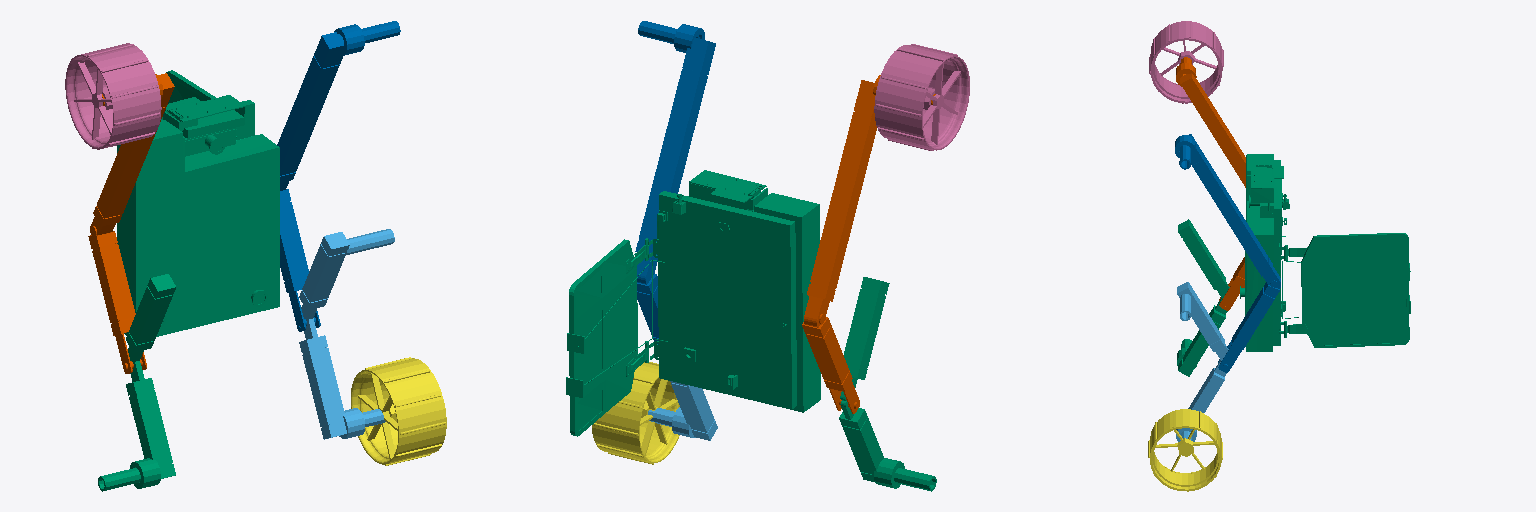
--- Render facts (derived) ---
The picture shows the robot from 3 angles, left to right: view 1: azimuth 30°, elevation 25°; view 2: azimuth 150°, elevation 25°; view 3: azimuth 270°, elevation 25°; orthographic projection.
Robot: pragyaan_rover — 14 links, 13 joints (10 continuous, 3 fixed); root link Pragyaan; default pose: all joints at 0.
Links seen in each view (by area): view 1: Pragyaan, Wheel_front_right, Wheel_back_left, rocker_left, bogie_left, rocker_right, bogie_right; view 2: Pragyaan, rocker_right, Wheel_front_right, rocker_left, bogie_right, Wheel_back_left, bogie_left; view 3: Pragyaan, rocker_left, Wheel_back_left, Wheel_front_right, rocker_right, bogie_right, bogie_left.
Boxes of the visible links, x1,y1,x2,y2 form: Pragyaan: [117, 70, 279, 336]; Wheel_front_right: [65, 43, 161, 149]; Wheel_back_left: [351, 357, 446, 465]; rocker_left: [277, 21, 400, 331]; bogie_left: [299, 229, 394, 439]; rocker_right: [88, 73, 174, 373]; bogie_right: [98, 274, 175, 491]; Pragyaan: [566, 170, 820, 436]; rocker_right: [802, 75, 935, 413]; Wheel_front_right: [874, 44, 969, 150]; rocker_left: [635, 21, 715, 344]; bogie_right: [839, 277, 936, 491]; Wheel_back_left: [592, 362, 679, 464]; bogie_left: [648, 381, 717, 440]; Pragyaan: [1240, 154, 1410, 351]; rocker_left: [1175, 134, 1280, 372]; Wheel_back_left: [1148, 409, 1222, 491]; Wheel_front_right: [1149, 21, 1223, 103]; rocker_right: [1176, 57, 1245, 310]; bogie_right: [1177, 219, 1229, 376]; bogie_left: [1176, 282, 1228, 441].
Size in the robot's own frame: 1.23 by 1.14 by 1.68 metres.
32 mesh visuals loaded from 41 distinct referenced files (32 OBJ); not drawn: 9 (reference not matched to a file when rendering).

URDF robot description (pragyaan_rover):
<?xml version="1.0" encoding="UTF-8"?>
<robot name="pragyaan_rover">
  <joint name="bogie_l" type="continuous">
    <origin xyz="0.0754756 0.3607256 -0.2064196" rpy="-0.0000002 0. 0.0000004"/>
    <parent link="rocker_left"/>
    <child link="bogie_left"/>
    <axis xyz="1. 0. 0."/>
  </joint>
  <joint name="bogie_r" type="continuous">
    <origin xyz="-0.0661764 0.3610772 -0.1975457" rpy="-0.0000002 0. 0.0000004"/>
    <parent link="rocker_right"/>
    <child link="bogie_right"/>
    <axis xyz="1. 0. 0."/>
  </joint>
  <joint name="joint_Pragyaan-Body_NavCam_left_NavCam_left" type="fixed">
    <origin xyz="0.1591243 0.1491396 0.36693 " rpy="2.9575973 -0.0082019 -3.1400664"/>
    <parent link="Pragyaan"/>
    <child link="Body_NavCam_left_NavCam_left"/>
  </joint>
  <joint name="joint_Pragyaan-Body_NavCam_right_NavCam_right" type="fixed">
    <origin xyz="-0.159981 0.1491396 0.36693 " rpy="2.9575973 -0.0082019 -3.1400664"/>
    <parent link="Pragyaan"/>
    <child link="Body_NavCam_right_NavCam_right"/>
  </joint>
  <joint name="joint_Pragyaan-depth_cam" type="fixed">
    <origin xyz="-0.0041552 0.1451544 0.3489496" rpy="-3.1392138 0.0998254 3.14032 "/>
    <parent link="Pragyaan"/>
    <child link="depth_cam"/>
  </joint>
  <joint name="rocker_l" type="continuous">
    <origin xyz="0.2612816 0.1085687 0.0289955" rpy="-1.5707961 -0.0000004 0. "/>
    <parent link="Pragyaan"/>
    <child link="rocker_left"/>
    <axis xyz="1. 0. 0."/>
  </joint>
  <joint name="rocker_r" type="continuous">
    <origin xyz="-0.2565102 0.1044748 0.0308113" rpy="-1.5707963 -0. 0. "/>
    <parent link="Pragyaan"/>
    <child link="rocker_right"/>
    <axis xyz="1. 0. 0."/>
  </joint>
  <joint name="wheel_bl" type="continuous">
    <origin xyz="0.2446567 0.3255871 -0.1849768" rpy="-0.9082444 0. 0. "/>
    <parent link="bogie_left"/>
    <child link="Wheel_back_left"/>
    <axis xyz="1. 0. 0."/>
  </joint>
  <joint name="wheel_br" type="continuous">
    <origin xyz="-0.2516727 0.3308002 -0.1864157" rpy="0.1365122 0. 0. "/>
    <parent link="bogie_right"/>
    <child link="Wheel_back_right"/>
    <axis xyz="1. 0. 0."/>
  </joint>
  <joint name="wheel_fl" type="continuous">
    <origin xyz="0.3204064 -0.6752018 -0.3913617" rpy="-1.3830266 0. 0.0000004"/>
    <parent link="rocker_left"/>
    <child link="Wheel_front_left"/>
    <axis xyz="1. 0. 0."/>
  </joint>
  <joint name="wheel_fr" type="continuous">
    <origin xyz="-0.3177407 -0.6728966 -0.3839952" rpy="1.7787697 0. 0.0000004"/>
    <parent link="rocker_right"/>
    <child link="Wheel_front_right"/>
    <axis xyz="1. 0. 0."/>
  </joint>
  <joint name="wheel_ml" type="continuous">
    <origin xyz="0.2452282 -0.3030834 -0.1850814" rpy="-1.0145161 0. 0. "/>
    <parent link="bogie_left"/>
    <child link="Wheel_middle_left"/>
    <axis xyz="1. 0. 0."/>
  </joint>
  <joint name="wheel_mr" type="continuous">
    <origin xyz="-0.2524492 -0.2997136 -0.1855052" rpy="2.1274116 0. 0. "/>
    <parent link="bogie_right"/>
    <child link="Wheel_middle_right"/>
    <axis xyz="1. 0. 0."/>
  </joint>
  <link name="Body_NavCam_left_NavCam_left"/>
  <link name="Body_NavCam_right_NavCam_right"/>
  <link name="Pragyaan">
    <visual>
      <origin xyz="0.0011804 0.1122519 0.0243774" rpy="-1.5707965 0.1820427 -0. "/>
      <geometry>
        <mesh filename="package://rover_description/meshes/Body_body_top_body_top.obj" scale="0.5 0.5 0.5"/>
      </geometry>
    </visual>
    <visual>
      <origin xyz="0.0016626 0.17169 0.0209961" rpy="-1.5707965 0.1820427 -0. "/>
      <geometry>
        <mesh filename="package://rover_description/meshes/Body_body_main_body_main.obj" scale="0.5 0.5 0.5"/>
      </geometry>
    </visual>
    <visual>
      <origin xyz="0.0016626 0.17169 0.0209961" rpy="-1.5707965 0.1820427 -0. "/>
      <geometry>
        <mesh filename="package://rover_description/meshes/body_attachments.obj" scale="0.5 0.5 0.5"/>
      </geometry>
    </visual>
    <visual>
      <origin xyz="0.0016626 0.17169 0.0209961" rpy="-1.5707965 0.1820427 -0. "/>
      <geometry>
        <mesh filename="package://rover_description/meshes/red_sensor_01.obj" scale="0.5 0.5 0.5"/>
      </geometry>
    </visual>
    <visual>
      <origin xyz="0.1603076 0.1486673 0.3447998" rpy="-1.4469512 0. 0. "/>
      <geometry>
        <mesh filename="package://rover_description/meshes/Body_NavCam_left_Cube_078_silver_metal_0_Cube_078_silver_metal_0.obj" scale="0.6903735 0.6903736 0.6903736"/>
      </geometry>
    </visual>
    <visual>
      <origin xyz="0.1603076 0.1486673 0.3447998" rpy="-1.4469512 0. 0. "/>
      <geometry>
        <mesh filename="package://rover_description/meshes/Body_NavCam_left_Cube_078_black_0_Cube_078_black_0.obj" scale="0.6903735 0.6903736 0.6903736"/>
      </geometry>
    </visual>
    <visual>
      <origin xyz="-0.1587976 0.1486673 0.3447998" rpy="-1.4469512 0. 0. "/>
      <geometry>
        <mesh filename="package://rover_description/meshes/Body_NavCam_right_Cube_079_silver_metal_0_Cube_079_silver_metal_0.obj" scale="0.6903735 0.6903736 0.6903736"/>
      </geometry>
    </visual>
    <visual>
      <origin xyz="-0.1587976 0.1486673 0.3447998" rpy="-1.4469512 0. 0. "/>
      <geometry>
        <mesh filename="package://rover_description/meshes/Body_NavCam_right_Cube_079_black_0_Cube_079_black_0.obj" scale="0.6903735 0.6903736 0.6903736"/>
      </geometry>
    </visual>
    <visual>
      <origin xyz="0.13099 0.0772696 0.4068896" rpy="-1.5773519 0.1690651 -0.0063767"/>
      <geometry>
        <mesh filename="package://rover_description/meshes/APXS_001_wheels_001_black_0_wheels_001_black_0.obj" scale="0.4139922 0.4139885 0.451397 "/>
      </geometry>
    </visual>
    <visual>
      <origin xyz="0.13099 0.0772696 0.4068896" rpy="-1.5773519 0.1690651 -0.0063767"/>
      <geometry>
        <mesh filename="package://rover_description/meshes/APXS_001_wheels_001_glass_0_wheels_001_glass_0.obj" scale="0.4139922 0.4139885 0.451397 "/>
      </geometry>
    </visual>
    <visual>
      <origin xyz="0.13099 0.0772696 0.4068896" rpy="-1.5773519 0.1690651 -0.0063767"/>
      <geometry>
        <mesh filename="package://rover_description/meshes/APXS_001_wheels_001_red_sensor_0_wheels_001_red_sensor_0.obj" scale="0.4139922 0.4139885 0.451397 "/>
      </geometry>
    </visual>
    <visual>
      <origin xyz="0.0204041 0.0768395 0.3845825" rpy="-1.5707965 0.1820427 -0. "/>
      <geometry>
        <mesh filename="package://rover_description/meshes/APXS_002_wheels_002_black_0_wheels_002_black_0.obj" scale="0.3855481 0.3855481 0.4514027"/>
      </geometry>
    </visual>
    <visual>
      <origin xyz="0.0486792 0.0740127 0.2939331" rpy="-1.5707965 0. 0. "/>
      <geometry>
        <mesh filename="package://rover_description/meshes/APXS_003_Cube_076_black_0_Cube_076_black_0.obj" scale="0.3855482 0.3855482 0.4514027"/>
      </geometry>
    </visual>
    <visual>
      <origin xyz="0.1470642 0.0776972 0.3177978" rpy="-1.5707965 0. 0. "/>
      <geometry>
        <mesh filename="package://rover_description/meshes/APXS_004_Cylinder_black_0_Cylinder_black_0.obj" scale="0.5386098 0.5386098 0.6306084"/>
      </geometry>
    </visual>
    <visual>
      <origin xyz="-0.224541 0.1350447 -0.0022461" rpy="-1.5707965 0. 0. "/>
      <geometry>
        <mesh filename="package://rover_description/meshes/attachment_041_Cylinder_041_silver_metal_0_Cylinder_041_silver_metal_0.obj" scale="0.002557 0.002557 0.002557"/>
      </geometry>
    </visual>
    <visual>
      <origin xyz="-0.172439 0.1212981 -0.1923462" rpy="-1.5707965 0. 0. "/>
      <geometry>
        <mesh filename="package://rover_description/meshes/attachment_007_Plane_007_silver_metal_0_Plane_007_silver_metal_0.obj" scale="0.0203416 0.0147812 0.1646361"/>
      </geometry>
    </visual>
    <visual>
      <origin xyz="0.1303589 0.1310241 -0.1923462" rpy="-1.5707965 0. 0. "/>
      <geometry>
        <mesh filename="package://rover_description/meshes/attachment_006_Plane_006_silver_metal_0_Plane_006_silver_metal_0.obj" scale="0.0203416 0.0147812 0.1646361"/>
      </geometry>
    </visual>
    <visual>
      <origin xyz="-0.0270874 0.141632 -0.2469788" rpy="1.570798 0.0000016 1.5707964"/>
      <geometry>
        <mesh filename="package://rover_description/meshes/attachment_080_Cube_080_silver_metal_0_Cube_080_silver_metal_0.obj" scale="0.0156034 0.0206397 0.0029843"/>
      </geometry>
    </visual>
    <visual>
      <origin xyz="0.0082898 0.1358565 0.2869263" rpy="-1.5707965 0. 0. "/>
      <geometry>
        <mesh filename="package://rover_description/meshes/attachment_005_Plane_005_silver_metal_0_Plane_005_silver_metal_0.obj" scale="0.0203416 0.0147812 0.0339739"/>
      </geometry>
    </visual>
    <visual>
      <origin xyz="0.232854 0.1460427 0.2807739" rpy="-1.5707965 0. 0. "/>
      <geometry>
        <mesh filename="package://rover_description/meshes/attachment_075_Cube_075_silver_metal_0_Cube_075_silver_metal_0.obj" scale="0.0156034 0.0156034 0.0029843"/>
      </geometry>
    </visual>
    <visual>
      <origin xyz="-0.2309241 0.1460427 0.2807739" rpy="3.1415927 0. 3.1415927"/>
      <geometry>
        <mesh filename="package://rover_description/meshes/attachment_077_Cube_077_silver_metal_0_Cube_077_silver_metal_0.obj" scale="0.0156034 0.0156034 0.0029843"/>
      </geometry>
    </visual>
    <visual>
      <origin xyz="0.2880847 0.1503942 -0.021416 " rpy="-1.5651225 0.0051784 0.0725363"/>
      <geometry>
        <mesh filename="package://rover_description/meshes/solarPanel_wheels_004_silver_metal_0_wheels_004_silver_metal_0.obj" scale="0.5869197 0.6009468 0.7220386"/>
      </geometry>
    </visual>
    <visual>
      <origin xyz="0.2880847 0.1503942 -0.021416 " rpy="-1.5651225 0.0051784 0.0725363"/>
      <geometry>
        <mesh filename="package://rover_description/meshes/solarPanel_wheels_004_black_0_wheels_004_black_0.obj" scale="0.5869197 0.6009468 0.7220386"/>
      </geometry>
    </visual>
    <visual>
      <origin xyz="0.2880847 0.1503942 -0.021416 " rpy="-1.5651225 0.0051784 0.0725363"/>
      <geometry>
        <mesh filename="package://rover_description/meshes/solarPanel_wheels_004_solar_001_0_wheels_004_solar_001_0.obj" scale="0.5869197 0.6009468 0.7220386"/>
      </geometry>
    </visual>
    <visual>
      <origin xyz="0.2880847 0.1503942 -0.021416 " rpy="-1.5651225 0.0051784 0.0725363"/>
      <geometry>
        <mesh filename="package://rover_description/meshes/solarPanel_wheels_004_Material_002_0_wheels_004_Material_002_0.obj" scale="0.5869197 0.6009468 0.7220386"/>
      </geometry>
    </visual>
    <collision>
      <origin xyz="0.0011804 0.1122519 0.0243774" rpy="-1.5707965 0.1820427 -0. "/>
      <geometry>
        <mesh filename="package://rover_description/meshes/Body_body_top_body_top.obj" scale="0.5 0.5 0.5"/>
      </geometry>
    </collision>
    <collision>
      <origin xyz="0.0016626 0.17169 0.0209961" rpy="-1.5707965 0.1820427 -0. "/>
      <geometry>
        <mesh filename="package://rover_description/meshes/Body_body_main_body_main.obj" scale="0.5 0.5 0.5"/>
      </geometry>
    </collision>
    <collision>
      <origin xyz="0.0016626 0.17169 0.0209961" rpy="-1.5707965 0.1820427 -0. "/>
      <geometry>
        <mesh filename="package://rover_description/meshes/body_attachments.obj" scale="0.5 0.5 0.5"/>
      </geometry>
    </collision>
    <collision>
      <origin xyz="0.1603076 0.1486673 0.3447998" rpy="-1.4469512 0. 0. "/>
      <geometry>
        <mesh filename="package://rover_description/meshes/Body_NavCam_left_Cube_078_silver_metal_0_Cube_078_silver_metal_0.obj" scale="0.6903735 0.6903736 0.6903736"/>
      </geometry>
    </collision>
    <collision>
      <origin xyz="-0.1587976 0.1486673 0.3447998" rpy="-1.4469512 0. 0. "/>
      <geometry>
        <mesh filename="package://rover_description/meshes/Body_NavCam_right_Cube_079_silver_metal_0_Cube_079_silver_metal_0.obj" scale="0.6903735 0.6903736 0.6903736"/>
      </geometry>
    </collision>
    <collision>
      <origin xyz="0.13099 0.0772696 0.4068896" rpy="-1.5773519 0.1690651 -0.0063767"/>
      <geometry>
        <mesh filename="package://rover_description/meshes/APXS_001_wheels_001_black_0_wheels_001_black_0.obj" scale="0.4139922 0.4139885 0.451397 "/>
      </geometry>
    </collision>
    <collision>
      <origin xyz="0.13099 0.0772696 0.4068896" rpy="-1.5773519 0.1690651 -0.0063767"/>
      <geometry>
        <mesh filename="package://rover_description/meshes/APXS_001_wheels_001_glass_0_wheels_001_glass_0.obj" scale="0.4139922 0.4139885 0.451397 "/>
      </geometry>
    </collision>
    <collision>
      <origin xyz="0.13099 0.0772696 0.4068896" rpy="-1.5773519 0.1690651 -0.0063767"/>
      <geometry>
        <mesh filename="package://rover_description/meshes/APXS_001_wheels_001_red_sensor_0_wheels_001_red_sensor_0.obj" scale="0.4139922 0.4139885 0.451397 "/>
      </geometry>
    </collision>
    <collision>
      <origin xyz="0.0204041 0.0768395 0.3845825" rpy="-1.5707965 0.1820427 -0. "/>
      <geometry>
        <mesh filename="package://rover_description/meshes/APXS_002_wheels_002_black_0_wheels_002_black_0.obj" scale="0.3855481 0.3855481 0.4514027"/>
      </geometry>
    </collision>
    <collision>
      <origin xyz="0.0486792 0.0740127 0.2939331" rpy="-1.5707965 0. 0. "/>
      <geometry>
        <mesh filename="package://rover_description/meshes/APXS_003_Cube_076_black_0_Cube_076_black_0.obj" scale="0.3855482 0.3855482 0.4514027"/>
      </geometry>
    </collision>
    <collision>
      <origin xyz="0.1470642 0.0776972 0.3177978" rpy="-1.5707965 0. 0. "/>
      <geometry>
        <mesh filename="package://rover_description/meshes/APXS_004_Cylinder_black_0_Cylinder_black_0.obj" scale="0.5386098 0.5386098 0.6306084"/>
      </geometry>
    </collision>
    <collision>
      <origin xyz="-0.224541 0.1350447 -0.0022461" rpy="-1.5707965 0. 0. "/>
      <geometry>
        <mesh filename="package://rover_description/meshes/attachment_041_Cylinder_041_silver_metal_0_Cylinder_041_silver_metal_0.obj" scale="0.002557 0.002557 0.002557"/>
      </geometry>
    </collision>
    <collision>
      <origin xyz="-0.172439 0.1212981 -0.1923462" rpy="-1.5707965 0. 0. "/>
      <geometry>
        <mesh filename="package://rover_description/meshes/attachment_007_Plane_007_silver_metal_0_Plane_007_silver_metal_0.obj" scale="0.0203416 0.0147812 0.1646361"/>
      </geometry>
    </collision>
    <collision>
      <origin xyz="0.1303589 0.1310241 -0.1923462" rpy="-1.5707965 0. 0. "/>
      <geometry>
        <mesh filename="package://rover_description/meshes/attachment_006_Plane_006_silver_metal_0_Plane_006_silver_metal_0.obj" scale="0.0203416 0.0147812 0.1646361"/>
      </geometry>
    </collision>
    <collision>
      <origin xyz="-0.0270874 0.141632 -0.2469788" rpy="1.570798 0.0000016 1.5707964"/>
      <geometry>
        <mesh filename="package://rover_description/meshes/attachment_080_Cube_080_silver_metal_0_Cube_080_silver_metal_0.obj" scale="0.0156034 0.0206397 0.0029843"/>
      </geometry>
    </collision>
    <collision>
      <origin xyz="0.0082898 0.1358565 0.2869263" rpy="-1.5707965 0. 0. "/>
      <geometry>
        <mesh filename="package://rover_description/meshes/attachment_005_Plane_005_silver_metal_0_Plane_005_silver_metal_0.obj" scale="0.0203416 0.0147812 0.0339739"/>
      </geometry>
    </collision>
    <collision>
      <origin xyz="0.232854 0.1460427 0.2807739" rpy="-1.5707965 0. 0. "/>
      <geometry>
        <mesh filename="package://rover_description/meshes/attachment_075_Cube_075_silver_metal_0_Cube_075_silver_metal_0.obj" scale="0.0156034 0.0156034 0.0029843"/>
      </geometry>
    </collision>
    <collision>
      <origin xyz="-0.2309241 0.1460427 0.2807739" rpy="3.1415927 0. 3.1415927"/>
      <geometry>
        <mesh filename="package://rover_description/meshes/attachment_077_Cube_077_silver_metal_0_Cube_077_silver_metal_0.obj" scale="0.0156034 0.0156034 0.0029843"/>
      </geometry>
    </collision>
  </link>
  <link name="Wheel_back_left">
    <visual>
      <origin xyz="-0.05 0. 0." rpy="0. 0. 0."/>
      <geometry>
        <mesh filename="package://rover_description/meshes/Wheel_back_left_Circle_006_silver_metal_0_Circle_006_silver_metal_0.obj" scale="2 1 1"/>
      </geometry>
    </visual>
    <collision>
      <origin xyz="-0.05 0. 0." rpy="0. 0. 0."/>
      <geometry>
        <mesh filename="package://rover_description/meshes/Wheel_back_left_Circle_006_silver_metal_0_Circle_006_silver_metal_0.obj" scale="2 1 1"/>
      </geometry>
    </collision>
  </link>
  <link name="Wheel_back_right">
    <visual>
      <origin xyz="0.05 0. 0." rpy="0. 0. 0."/>
      <geometry>
        <mesh filename="package://rover_description/meshes/Wheel_back_right_Circle_003_silver_metal_0_Circle_003_silver_metal_0.obj" scale="2 1 1"/>
      </geometry>
    </visual>
    <collision>
      <origin xyz="0.05 0. 0." rpy="0. 0. 0."/>
      <geometry>
        <mesh filename="package://rover_description/meshes/Wheel_back_right_Circle_003_silver_metal_0_Circle_003_silver_metal_0.obj" scale="2 1 1"/>
      </geometry>
    </collision>
  </link>
  <link name="Wheel_front_left">
    <visual>
      <origin xyz="-0.05 0. 0." rpy="0. 0. 0."/>
      <geometry>
        <mesh filename="package://rover_description/meshes/Wheel_front_left_Circle_005_silver_metal_0_Circle_005_silver_metal_0.obj" scale="2 1 1"/>
      </geometry>
    </visual>
    <collision>
      <origin xyz="-0.05 0. 0." rpy="0. 0. 0."/>
      <geometry>
        <mesh filename="package://rover_description/meshes/Wheel_front_left_Circle_005_silver_metal_0_Circle_005_silver_metal_0.obj" scale="2 1 1"/>
      </geometry>
    </collision>
  </link>
  <link name="Wheel_front_right">
    <visual>
      <origin xyz="0.05 0. 0." rpy="0. 0. 0."/>
      <geometry>
        <mesh filename="package://rover_description/meshes/Wheel_front_right_Circle_002_silver_metal_0_Circle_002_silver_metal_0.obj" scale="2 1 1"/>
      </geometry>
    </visual>
    <collision>
      <origin xyz="0.05 0. 0." rpy="0. 0. 0."/>
      <geometry>
        <mesh filename="package://rover_description/meshes/Wheel_front_right_Circle_002_silver_metal_0_Circle_002_silver_metal_0.obj" scale="2 1 1"/>
      </geometry>
    </collision>
  </link>
  <link name="Wheel_middle_left">
    <visual>
      <origin xyz="-0.05 0. 0." rpy="0. 0. 0."/>
      <geometry>
        <mesh filename="package://rover_description/meshes/Wheel_middle_left_Circle_007_black_0_Circle_007_black_0.obj" scale="2 1 1"/>
      </geometry>
    </visual>
    <collision>
      <origin xyz="-0.05 0. 0." rpy="0. 0. 0."/>
      <geometry>
        <mesh filename="package://rover_description/meshes/Wheel_middle_left_Circle_007_black_0_Circle_007_black_0.obj" scale="2 1 1"/>
      </geometry>
    </collision>
  </link>
  <link name="Wheel_middle_right">
    <visual>
      <origin xyz="0.05 0. 0." rpy="0. 0. 0."/>
      <geometry>
        <mesh filename="package://rover_description/meshes/Wheel_middle_right_Circle_004_black_0_Circle_004_black_0.obj" scale="2 1 1"/>
      </geometry>
    </visual>
    <collision>
      <origin xyz="0.05 0. 0." rpy="0. 0. 0."/>
      <geometry>
        <mesh filename="package://rover_description/meshes/Wheel_middle_right_Circle_004_black_0_Circle_004_black_0.obj" scale="2 1 1"/>
      </geometry>
    </collision>
  </link>
  <link name="bogie_left">
    <visual>
      <origin xyz="-0.0149515 -0.006688 -0.0095517" rpy="-0.0000002 0. 0. "/>
      <geometry>
        <mesh filename="package://rover_description/meshes/Cube_024.obj" scale="1. 1. 1."/>
      </geometry>
    </visual>
    <visual>
      <origin xyz="0.0643527 -0.4817684 -0.31751 " rpy="1.5708816 -0.1804329 0.0106592"/>
      <geometry>
        <mesh filename="package://rover_description/meshes/bogie_left_midle_motor_black_motor_motor_black.obj" scale="1. 1. 1."/>
      </geometry>
    </visual>
    <visual>
      <origin xyz="-0.0159573 0.0228872 -0.0135221" rpy="-0.0000002 0. 0. "/>
      <geometry>
        <mesh filename="package://rover_description/meshes/Cube_022.obj" scale="1. 1. 1."/>
      </geometry>
    </visual>
    <collision>
      <origin xyz="-0.0149515 -0.006688 -0.0095517" rpy="-0.0000002 0. 0. "/>
      <geometry>
        <mesh filename="package://rover_description/meshes/Cube_024.obj" scale="1. 1. 1."/>
      </geometry>
    </collision>
    <collision>
      <origin xyz="0.0643527 -0.4817684 -0.31751 " rpy="1.5708816 -0.1804329 0.0106592"/>
      <geometry>
        <mesh filename="package://rover_description/meshes/bogie_left_midle_motor_black_motor_motor_black.obj" scale="1. 1. 1."/>
      </geometry>
    </collision>
    <collision>
      <origin xyz="-0.0159573 0.0228872 -0.0135221" rpy="-0.0000002 0. 0. "/>
      <geometry>
        <mesh filename="package://rover_description/meshes/Cube_022.obj" scale="1. 1. 1."/>
      </geometry>
    </collision>
  </link>
  <link name="bogie_right">
    <visual>
      <origin xyz="0.0027187 0.0264674 -0.0129617" rpy="-0.0000002 0. 0. "/>
      <geometry>
        <mesh filename="package://rover_description/meshes/Cube_018.obj" scale="1. 1. 1."/>
      </geometry>
    </visual>
    <visual>
      <origin xyz="0.0037099 -0.004912 -0.0123988" rpy="-0.0000002 0. 0. "/>
      <geometry>
        <mesh filename="package://rover_description/meshes/Cube_020.obj" scale="1. 1. 1."/>
      </geometry>
    </visual>
    <visual>
      <origin xyz="-0.0752902 -0.1173464 -0.3188631" rpy="1.570882 -0.1804329 -3.1309335"/>
      <geometry>
        <mesh filename="package://rover_description/meshes/bogie_right_midle_motor_black_motor_motor_black.obj" scale="1. 1. 1."/>
      </geometry>
    </visual>
    <collision>
      <origin xyz="0.0027187 0.0264674 -0.0129617" rpy="-0.0000002 0. 0. "/>
      <geometry>
        <mesh filename="package://rover_description/meshes/Cube_018.obj" scale="1. 1. 1."/>
      </geometry>
    </collision>
    <collision>
      <origin xyz="0.0037099 -0.004912 -0.0123988" rpy="-0.0000002 0. 0. "/>
      <geometry>
        <mesh filename="package://rover_description/meshes/Cube_020.obj" scale="1. 1. 1."/>
      </geometry>
    </collision>
    <collision>
      <origin xyz="-0.0752902 -0.1173464 -0.3188631" rpy="1.570882 -0.1804329 -3.1309335"/>
      <geometry>
        <mesh filename="package://rover_description/meshes/bogie_right_midle_motor_black_motor_motor_black.obj" scale="1. 1. 1."/>
      </geometry>
    </collision>
  </link>
  <link name="depth_cam"/>
  <link name="rocker_left">
    <visual>
      <origin xyz="0.0600604 -0.0091704 -0.0084297" rpy="0.0349064 0. 0.0000004"/>
      <geometry>
        <mesh filename="package://rover_description/meshes/Cube_027.obj" scale="1. 1. 1."/>
      </geometry>
    </visual>
    <visual>
      <origin xyz="0.0618278 0.3836201 -0.218992 " rpy="-0.0000003 0. 0.0000004"/>
      <geometry>
        <mesh filename="package://rover_description/meshes/Cube_023.obj" scale="1. 1. 1."/>
      </geometry>
    </visual>
    <collision>
      <origin xyz="0.0600604 -0.0091704 -0.0084297" rpy="0.0349064 0. 0.0000004"/>
      <geometry>
        <mesh filename="package://rover_description/meshes/Cube_027.obj" scale="1. 1. 1."/>
      </geometry>
    </collision>
    <collision>
      <origin xyz="0.0618278 0.3836201 -0.218992 " rpy="-0.0000003 0. 0.0000004"/>
      <geometry>
        <mesh filename="package://rover_description/meshes/Cube_023.obj" scale="1. 1. 1."/>
      </geometry>
    </collision>
  </link>
  <link name="rocker_right">
    <visual>
      <origin xyz="-0.0616314 -0.0044207 0.0009594" rpy="0.0349064 0. 0.0000004"/>
      <geometry>
        <mesh filename="package://rover_description/meshes/Cube_021.obj" scale="1. 1. 1."/>
      </geometry>
    </visual>
    <visual>
      <origin xyz="-0.0637702 0.3876569 -0.2102048" rpy="-0.0000003 0. 0.0000004"/>
      <geometry>
        <mesh filename="package://rover_description/meshes/Cube_019.obj" scale="1. 1. 1."/>
      </geometry>
    </visual>
    <collision>
      <origin xyz="-0.0616314 -0.0044207 0.0009594" rpy="0.0349064 0. 0.0000004"/>
      <geometry>
        <mesh filename="package://rover_description/meshes/Cube_021.obj" scale="1. 1. 1."/>
      </geometry>
    </collision>
    <collision>
      <origin xyz="-0.0637702 0.3876569 -0.2102048" rpy="-0.0000003 0. 0.0000004"/>
      <geometry>
        <mesh filename="package://rover_description/meshes/Cube_019.obj" scale="1. 1. 1."/>
      </geometry>
    </collision>
  </link>
</robot>
